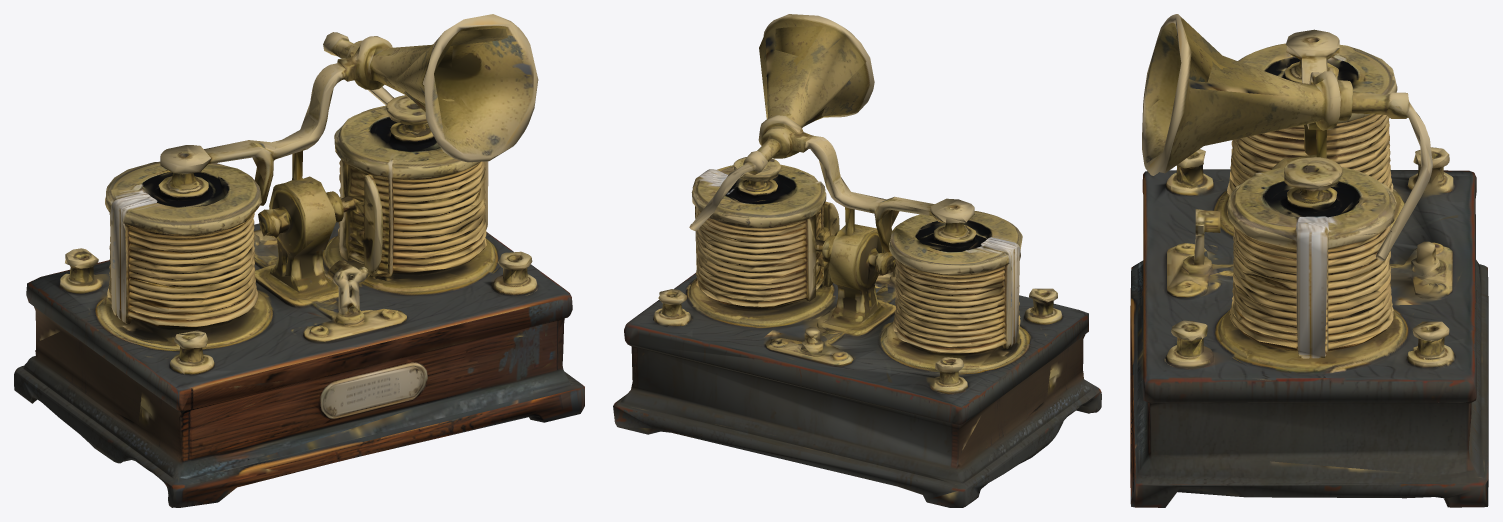
Rendered from lhi_telegraph_set.glb.
3 views of the same model, side by side, from view 1: azimuth 30°, elevation 25°; view 2: azimuth 150°, elevation 25°; view 3: azimuth 270°, elevation 25° (orthographic). The views are drawn at different scales.
Visible parts, largest first — view 1: material; view 2: material; view 3: material.
Part boxes in pixels (<box>): material: <box>14,14,584,507</box>; material: <box>613,14,1101,507</box>; material: <box>1130,14,1488,507</box>.
Bounding box in the file's own units: 0.7954 × 0.739 × 0.5478.
1 material, 1 textured.
